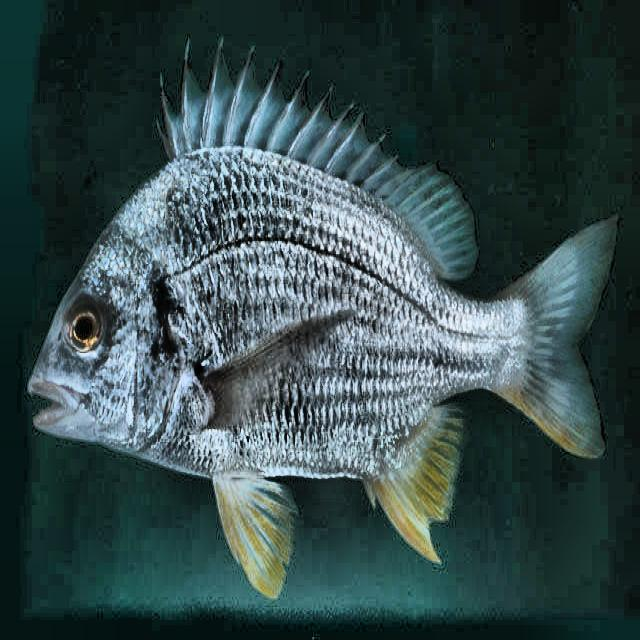fish: (27, 35, 620, 602)
